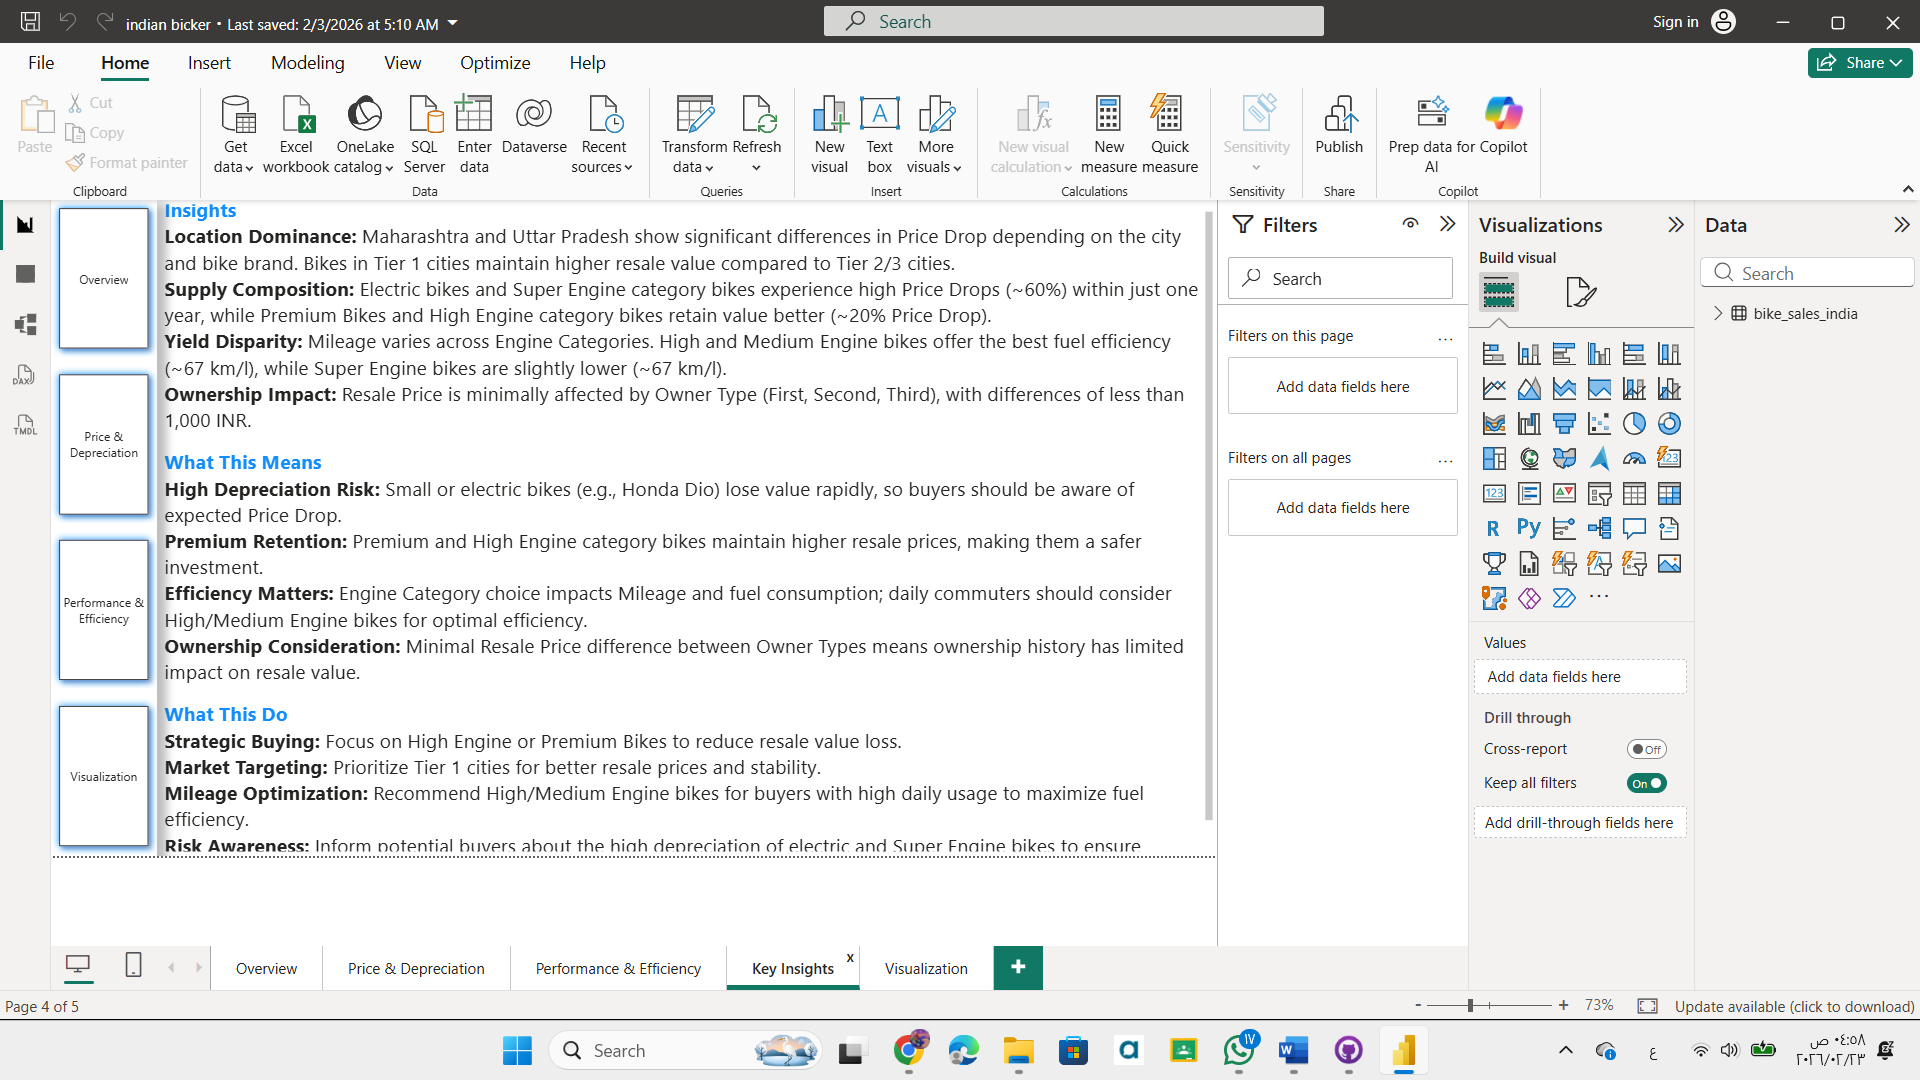

The page's visual inventory and layout, read from the dashboard file:
{"tool":"powerbi","page":{"name":"Key Insights","canvas":[1280,720],"ordinal":3},"visuals":[{"type":"textbox","box":[0,0,1280.3,720.4],"z":0},{"type":"pageNavigator","box":[0,0,116.6,720.4],"z":1}]}

Visuals, with their boxes on the page's 1280x720 design canvas (x1, y1, x2, y2). These are canvas units, not pixel positions in the 1920x1080 screenshot, which may show the page scaled, cropped or inside an application window:
textbox: bbox=[0, 0, 1280, 720]
pageNavigator: bbox=[0, 0, 117, 720]
